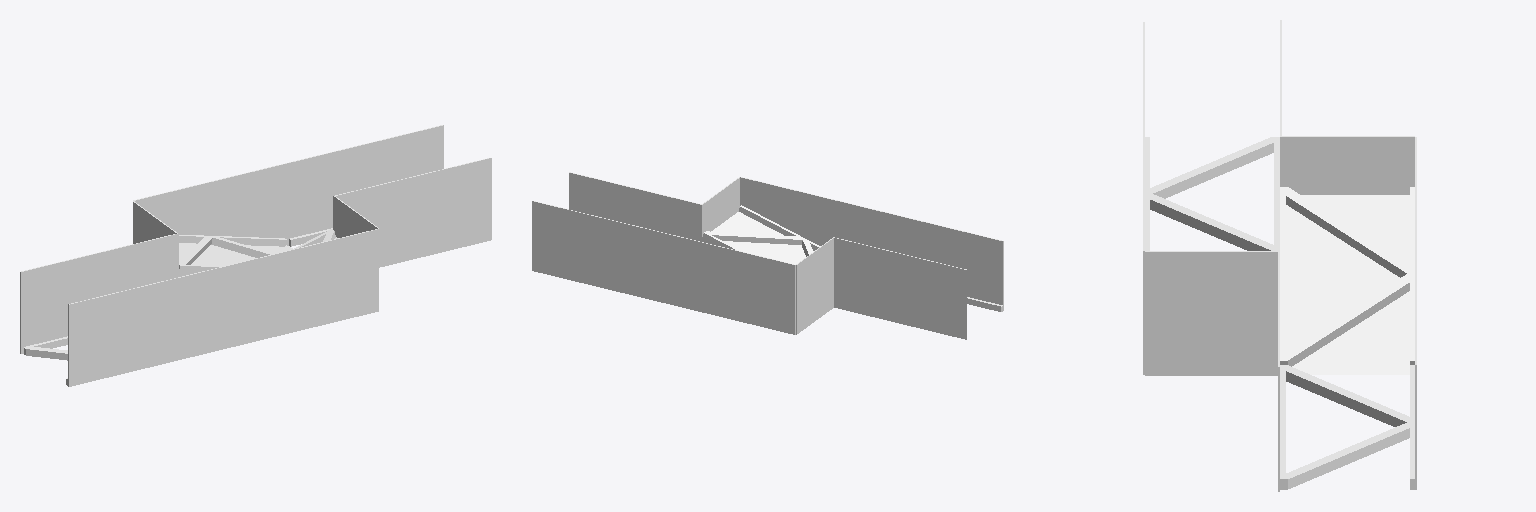
URDF robot description (terrain-rails_k_slope):
<?xml version="1.0" encoding="utf-8"?>
<!-- This URDF was automatically created by SolidWorks to URDF Exporter! Originally created by [author] ([email redacted]) 
     Commit Version: 1.6.0-4-g7f85cfe  Build Version: 1.6.7995.38578
     For more information, please see http://wiki.ros.org/sw_urdf_exporter -->
<robot
  name="terrain-rails_k_slope">
  <link
    name="base_link">
    <inertial>
      <origin
        xyz="3.6 1.218 0.41443"
        rpy="0 0 0" />
      <mass
        value="875.13" />
      <inertia
        ixx="117.95"
        ixy="4.4853E-14"
        ixz="-3.7229E-14"
        iyy="319.97"
        iyz="8.0338E-15"
        izz="322.12" />
    </inertial>
    <visual>
      <origin
        xyz="0 0 0"
        rpy="0 0 0" />
      <geometry>
        <mesh
          filename="package://terrain-rails_k_slope/meshes/base_link.STL" />
      </geometry>
      <material
        name="">
        <color
          rgba="1 1 1 1" />
      </material>
    </visual>
    <collision>
      <origin
        xyz="0 0 0"
        rpy="0 0 0" />
      <geometry>
        <mesh
          filename="package://terrain-rails_k_slope/meshes/base_link.STL" />
      </geometry>
    </collision>
  </link>
</robot>

--- What the picture shows (computed from the rendered views, not written in the file) ---
3 views of the same robot in one strip: view 1: azimuth 30°, elevation 25°; view 2: azimuth 150°, elevation 25°; view 3: azimuth 270°, elevation 25° (orthographic).
Robot: terrain-rails_k_slope — 1 links, 0 joints (none); root link base_link; default pose: all joints at 0.
Links seen in each view (by area): view 1: base_link; view 2: base_link; view 3: base_link.
Link boxes in pixels (x1=…): base_link: x1=20, y1=125, x2=491, y2=386; base_link: x1=532, y1=172, x2=1003, y2=339; base_link: x1=1143, y1=20, x2=1416, y2=491.
Size in the robot's own frame: 7.28 by 2.44 by 1.22 metres.
1 mesh visuals loaded from 1 distinct referenced files (1 binary STL).